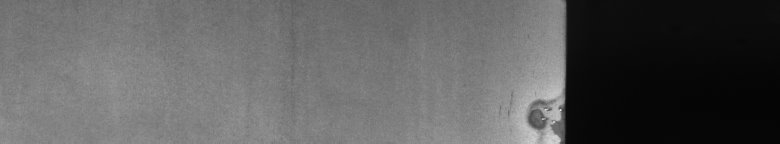hb: (499, 92, 552, 136)
